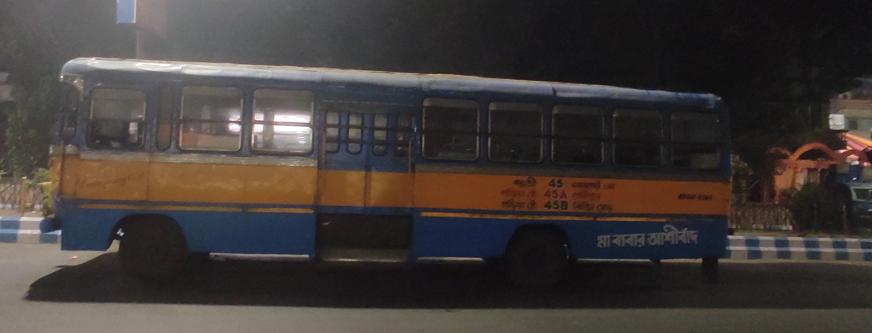Bus: (40, 50, 738, 296)
